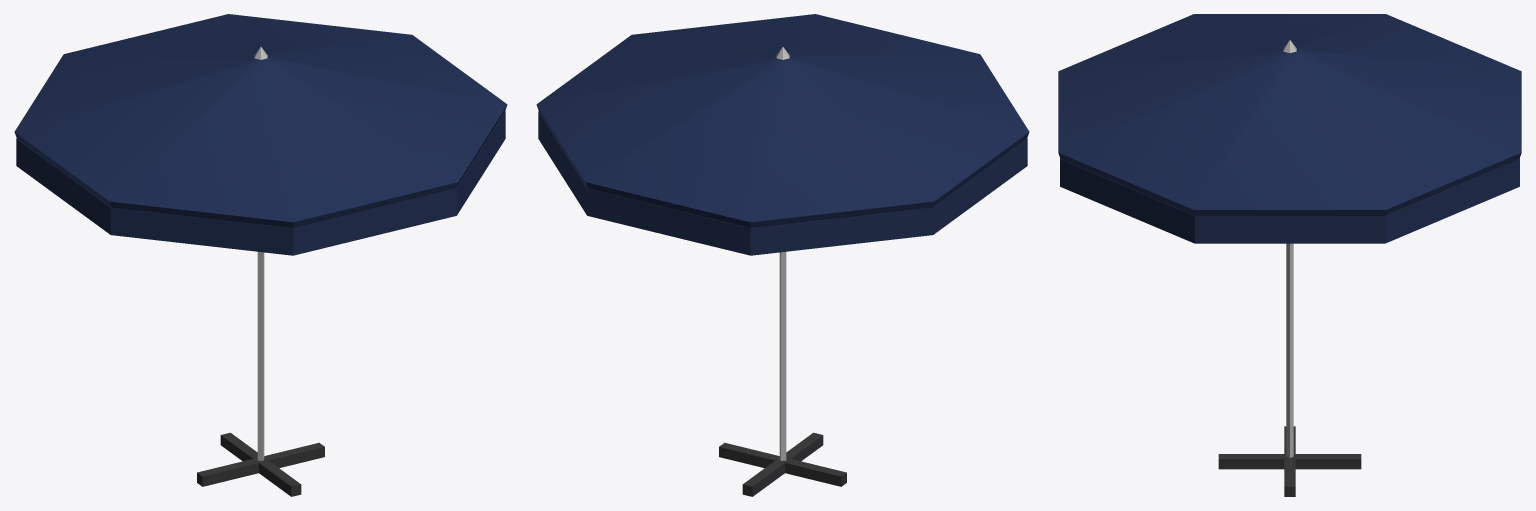
Rendered from SM_Prop_cafe_parasol_3_LOD1.glb.
3 views of the same model, side by side, from view 1: azimuth 30°, elevation 25°; view 2: azimuth 150°, elevation 25°; view 3: azimuth 270°, elevation 25° (orthographic).
Parts seen in each view (by area): view 1: SM_Prop_cafe_parasol_3_LOD1; view 2: SM_Prop_cafe_parasol_3_LOD1; view 3: SM_Prop_cafe_parasol_3_LOD1.
Boxes of the visible parts, x1,y1,x2,y2 form: SM_Prop_cafe_parasol_3_LOD1: (14,14,507,496); SM_Prop_cafe_parasol_3_LOD1: (536,14,1029,496); SM_Prop_cafe_parasol_3_LOD1: (1058,14,1521,496).
Bounding box in the file's own units: 2.44 × 2.48 × 2.44.
